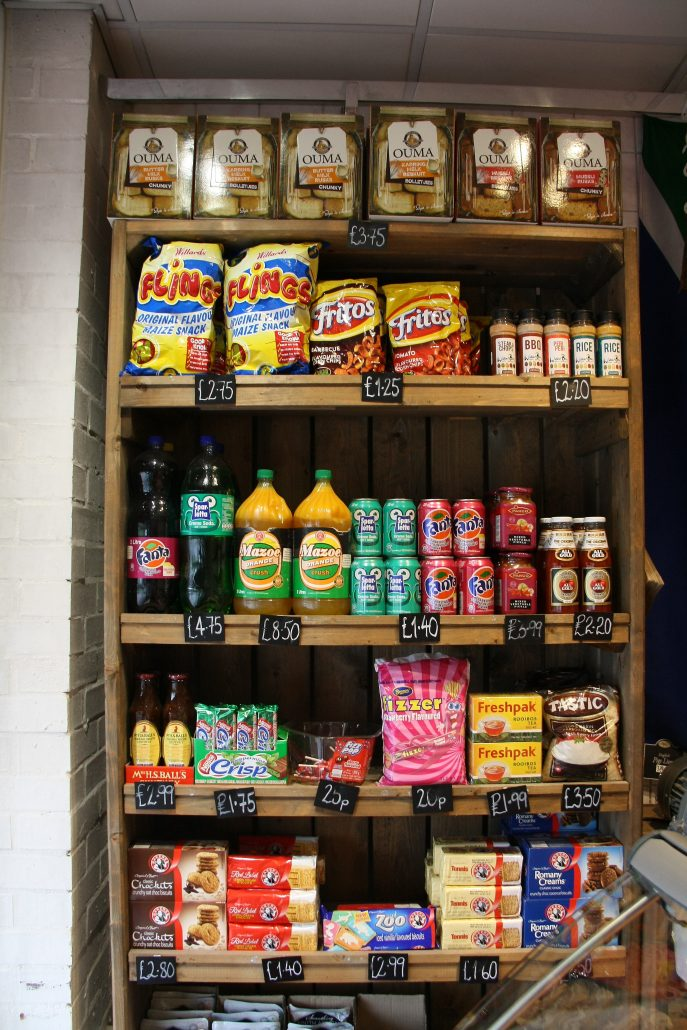Product 1: (122, 229, 327, 380)
Product 2: (234, 459, 357, 612)
